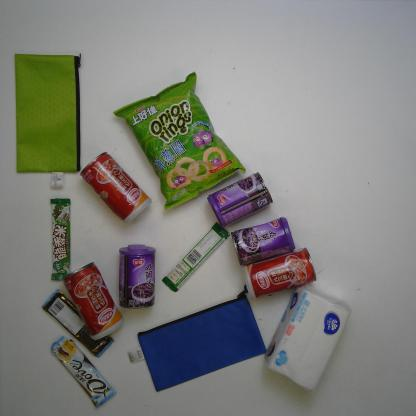Canned Food: (60, 259, 125, 341), (79, 152, 152, 224), (207, 169, 275, 230), (243, 246, 317, 299), (230, 217, 296, 264), (115, 243, 158, 311)
Chocolate: (42, 286, 115, 359), (162, 220, 230, 294), (51, 334, 116, 411), (48, 198, 73, 284)
Puffed Food: (110, 72, 247, 210)
Stationery: (124, 291, 266, 393), (10, 50, 85, 190)
Tissue: (264, 280, 349, 393)
